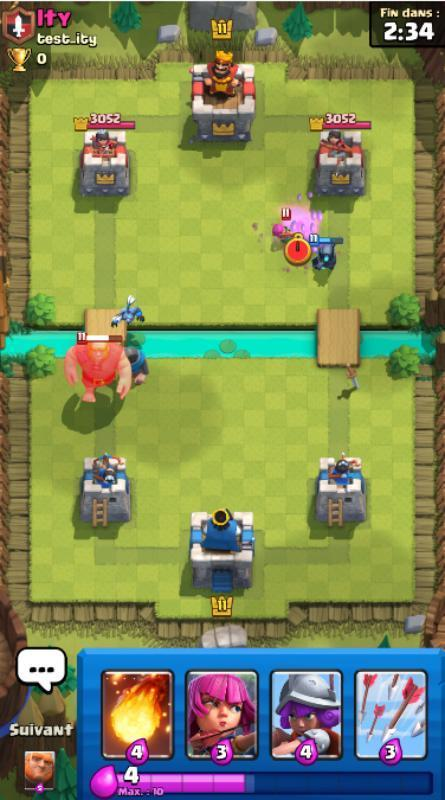enemy_archers: (269, 207, 301, 247)
enemy_giant: (60, 333, 131, 410)
player_knight: (119, 334, 153, 386)
player_mini_pekka: (306, 231, 345, 276)
player_minions: (99, 290, 156, 330)
